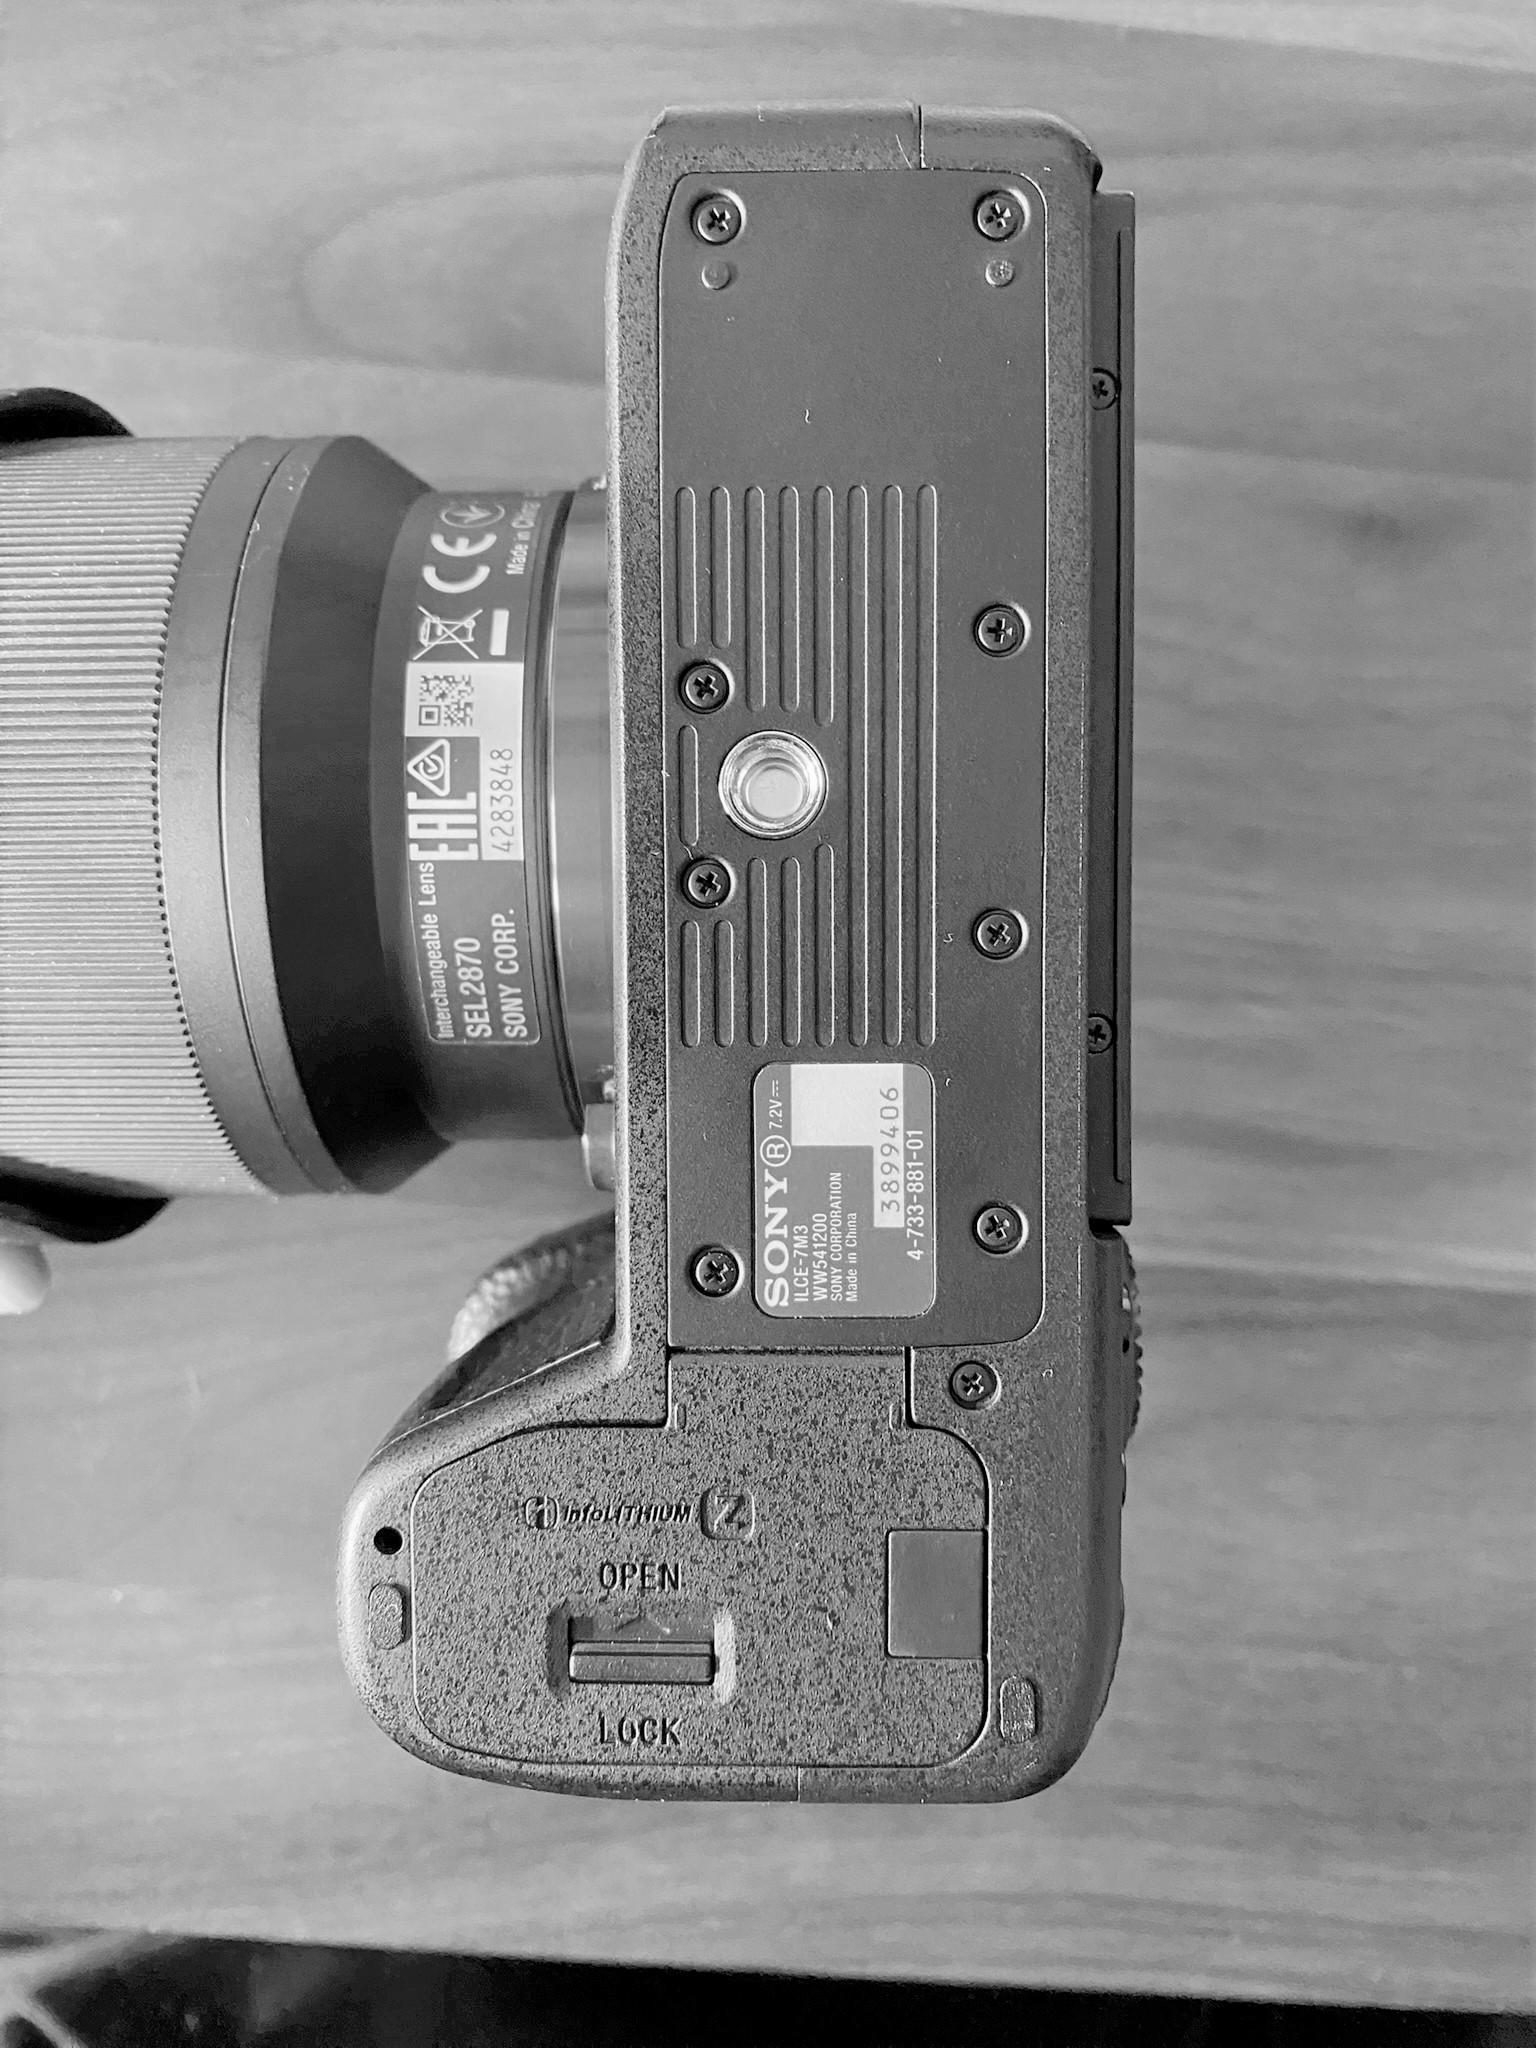philips-PZ: (971, 905, 1026, 959), (975, 605, 1026, 663), (691, 1243, 742, 1298), (682, 855, 734, 908), (975, 1201, 1026, 1255), (679, 663, 728, 716), (952, 1359, 1002, 1409), (976, 194, 1020, 244), (695, 200, 741, 247), (1086, 361, 1120, 416), (1086, 1008, 1118, 1059)
